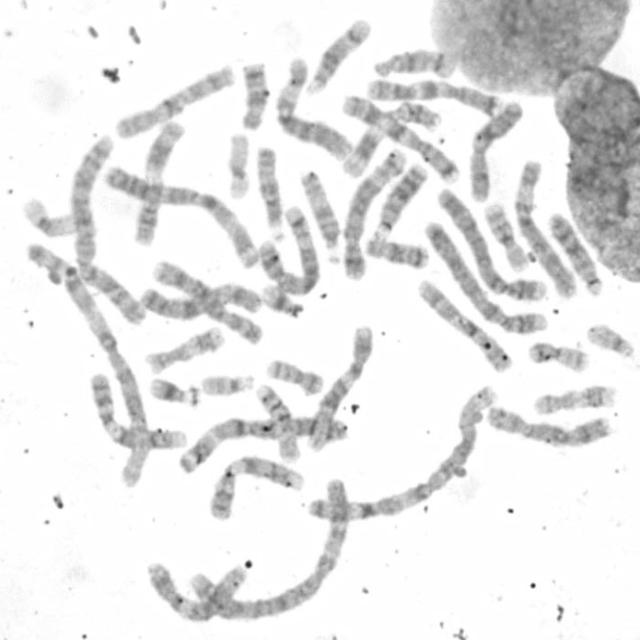A1: (22, 238, 156, 496), (304, 380, 498, 527)
A2: (186, 476, 353, 622), (65, 129, 148, 326)
A3: (100, 162, 262, 270), (171, 411, 353, 475)
B4: (423, 198, 548, 336), (434, 182, 546, 308)
B5: (339, 143, 407, 282), (257, 201, 320, 297)
C10: (110, 61, 238, 142), (413, 276, 514, 376)
C11: (341, 98, 443, 181), (129, 115, 187, 248)
C12: (306, 329, 381, 452), (140, 544, 249, 620)
C6: (510, 155, 579, 298), (270, 55, 354, 162)
C7: (340, 91, 460, 186), (362, 74, 504, 117)
C8: (151, 258, 266, 348), (482, 402, 615, 451)
C9: (86, 368, 188, 453), (204, 451, 306, 522)
D13: (544, 208, 605, 298), (369, 160, 430, 238)
D14: (303, 15, 372, 96), (368, 45, 457, 80)
D15: (296, 165, 342, 252), (254, 142, 286, 242)
E16: (253, 381, 302, 465), (480, 198, 529, 272)
E17: (142, 322, 226, 376), (529, 380, 618, 418)
E18: (361, 234, 430, 271), (237, 59, 270, 132)
F19: (25, 190, 88, 244), (224, 129, 251, 201)
F20: (263, 355, 325, 396), (525, 337, 590, 375)
G21: (146, 372, 201, 409), (258, 281, 306, 320)
G22: (583, 319, 635, 359), (198, 368, 258, 398)
X: (465, 97, 526, 204), (136, 278, 262, 322)
